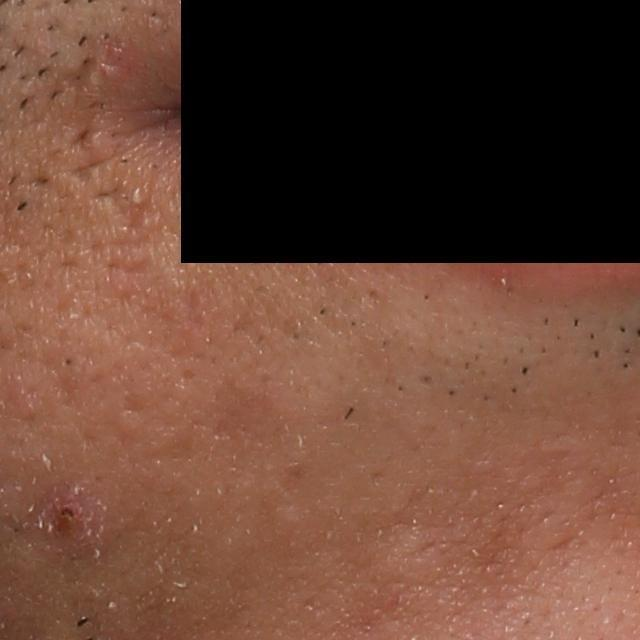comedo: (60, 353, 77, 373)
hypertrophic_scar: (370, 528, 450, 597)
papule: (37, 476, 95, 543)
